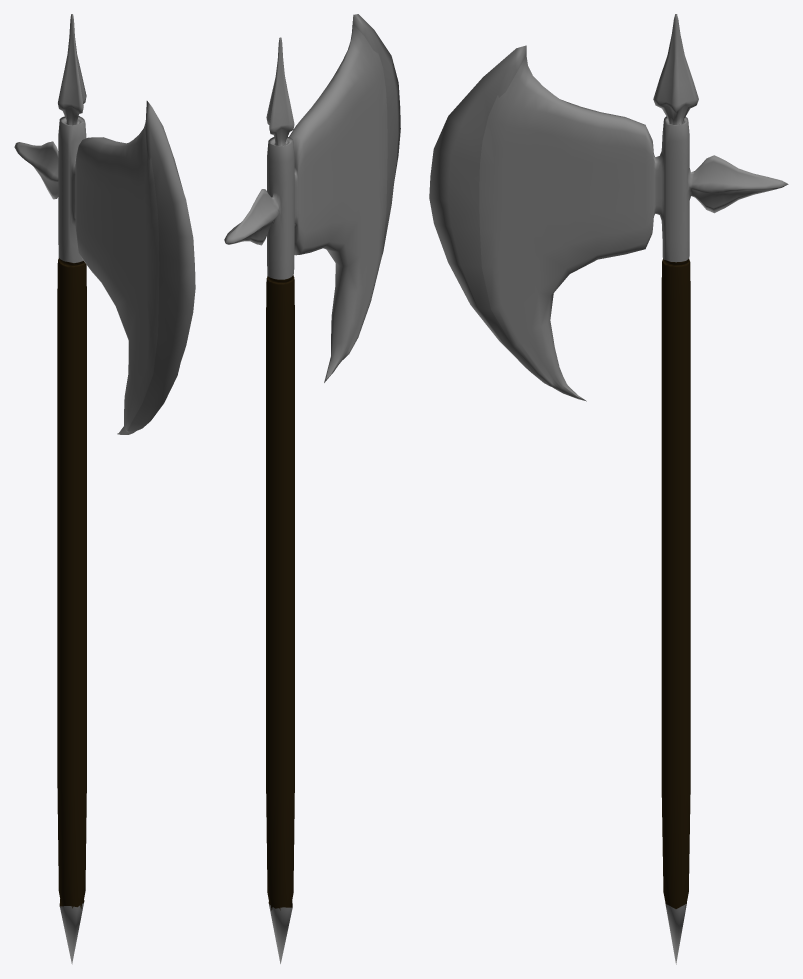
Rendered from axe.fbx.
The picture shows the model from 3 angles, left to right: view 1: azimuth 30°, elevation 25°; view 2: azimuth 150°, elevation 25°; view 3: azimuth 270°, elevation 25°; orthographic projection. The views are drawn at different scales.
Visible parts, largest first — view 1: pCube1; view 2: pCube1; view 3: pCube1.
Boxes of the visible parts, x1=… form: pCube1: x1=14, y1=14, x2=195, y2=964; pCube1: x1=224, y1=14, x2=400, y2=963; pCube1: x1=429, y1=14, x2=788, y2=964.
Size of the model in its own units: 4.86 by 153 by 52.51.
